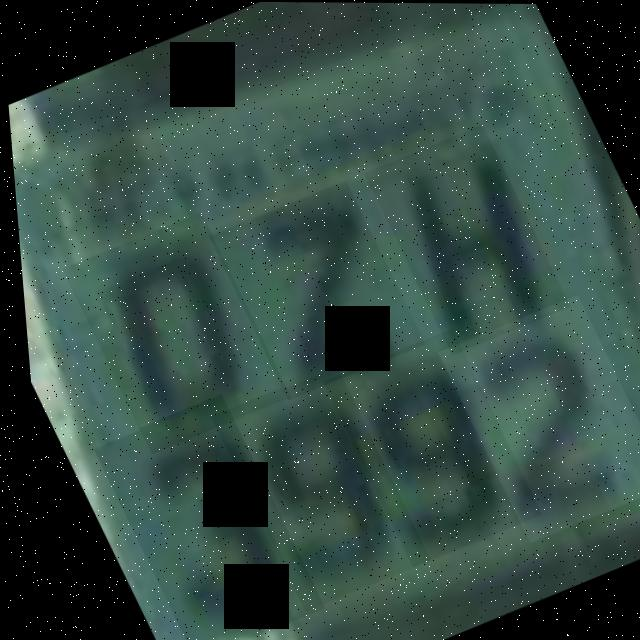2: (428, 293, 640, 542)
3: (81, 394, 316, 640)
9: (201, 365, 425, 611), (312, 327, 537, 567)
H: (358, 123, 569, 355)
O: (53, 210, 288, 456)
Z: (201, 179, 423, 400)
